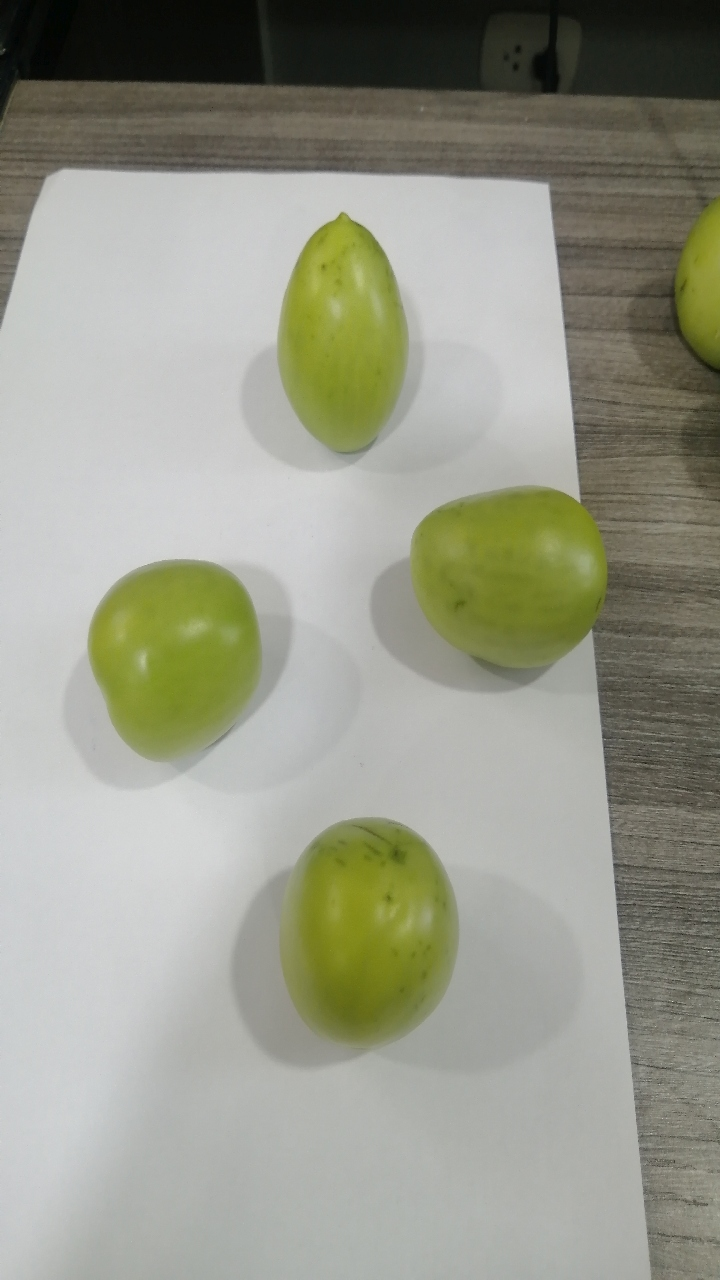tomateVerde: (257, 803, 475, 1069), (392, 463, 631, 671), (261, 189, 431, 475), (72, 534, 268, 771)
